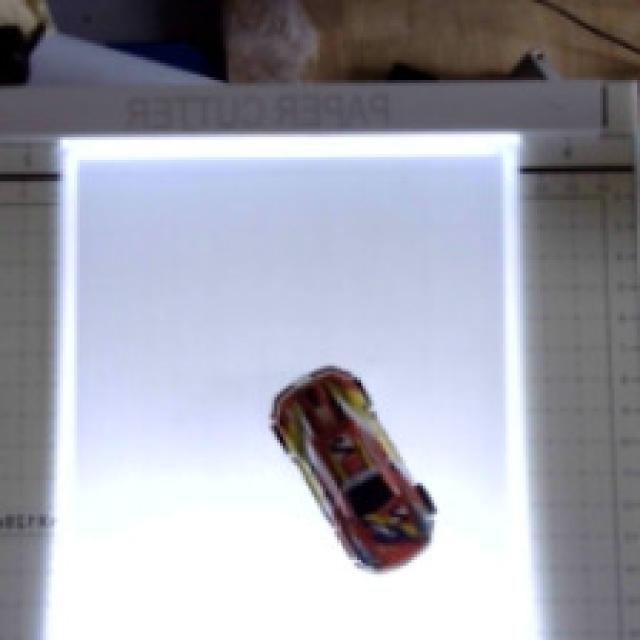Red Car: (229, 344, 486, 618)
